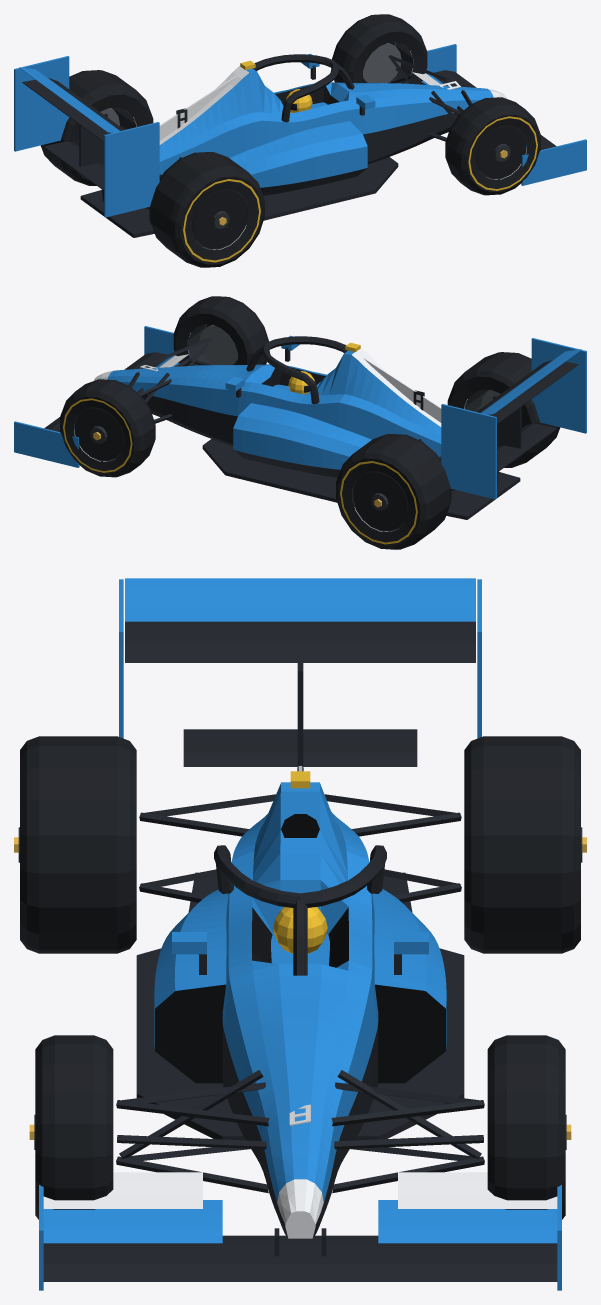
The picture shows the model from 3 angles, top to bottom: view 1: azimuth 30°, elevation 25°; view 2: azimuth 150°, elevation 25°; view 3: azimuth 270°, elevation 25°; orthographic projection. The views are drawn at different scales.
Parts seen in each view (by area): view 1: body, tyre-rr, tyre-fr, tyre-fl, tyre-rl; view 2: body, tyre-rl, tyre-fl, tyre-fr, tyre-rr; view 3: body, tyre-rl, tyre-rr, tyre-fl, tyre-fr.
Boxes of the visible parts, box(x1,y1,x2,y2) form: body: box(14, 44, 586, 237); tyre-rr: box(149, 152, 264, 267); tyre-fr: box(445, 97, 540, 195); tyre-fl: box(332, 14, 427, 84); tyre-rl: box(40, 70, 153, 185); body: box(14, 326, 586, 519); tyre-rl: box(336, 434, 451, 549); tyre-fl: box(60, 379, 155, 477); tyre-fr: box(173, 296, 268, 366); tyre-rr: box(447, 352, 560, 467); body: box(39, 578, 561, 1290); tyre-rl: box(464, 736, 586, 953); tyre-rr: box(14, 736, 136, 953); tyre-fl: box(487, 1035, 571, 1219); tyre-fr: box(29, 1035, 113, 1219).
Bounding box in the file's own units: 2.72 × 0.7924 × 1.47.
